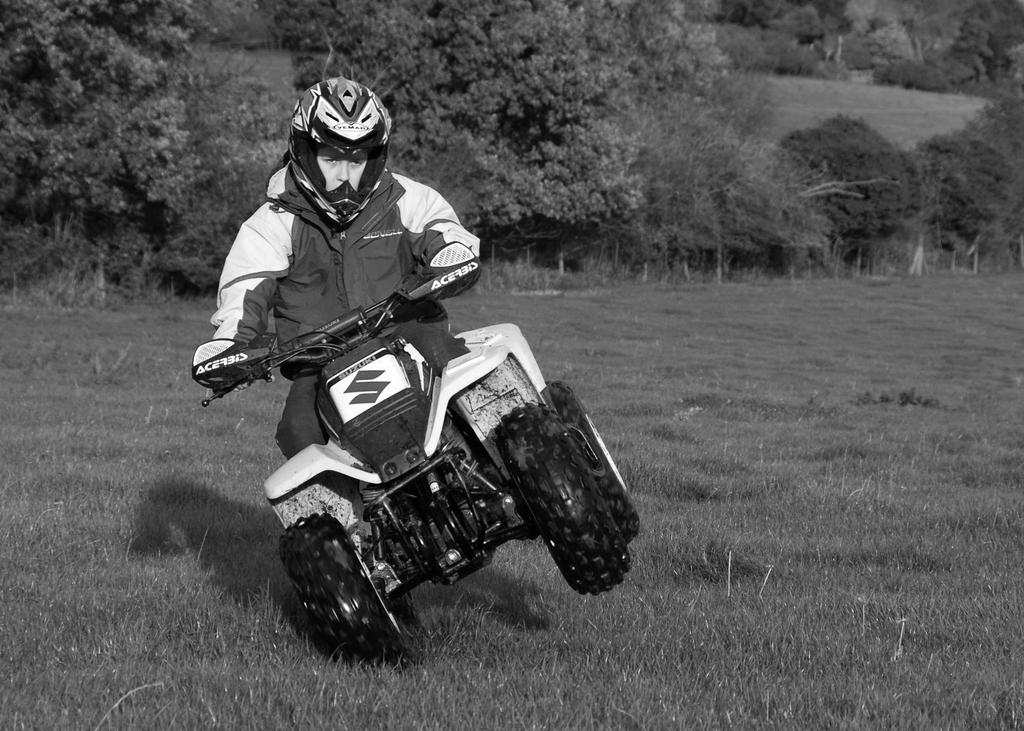helmet: (288, 78, 392, 229)
